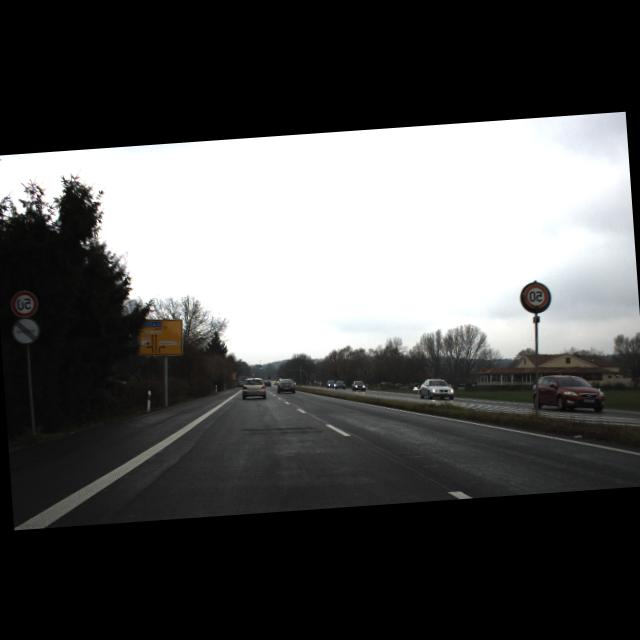other: (12, 315, 40, 344)
prohibitory: (10, 288, 38, 317), (524, 281, 550, 309)
